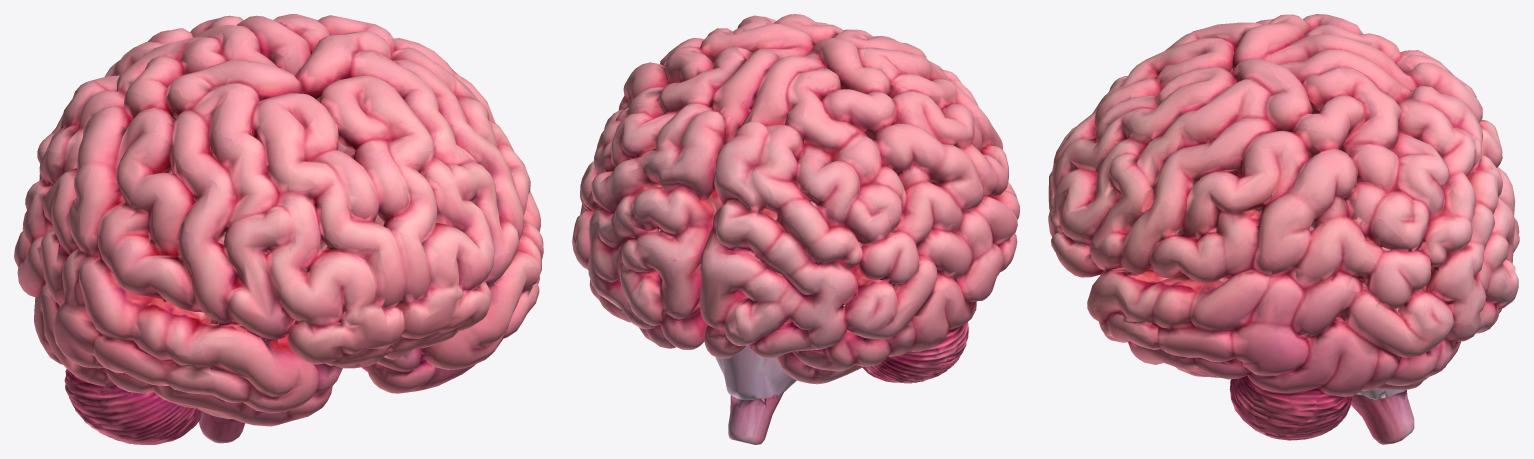
File: brain-orb.glb
The picture shows the model from 3 angles, left to right: view 1: azimuth 30°, elevation 25°; view 2: azimuth 150°, elevation 25°; view 3: azimuth 270°, elevation 25°; orthographic projection. The views are drawn at different scales.
Size of the model in its own units: 1.9 by 1.74 by 1.87.
Materials: 1 (1 with a texture image).
